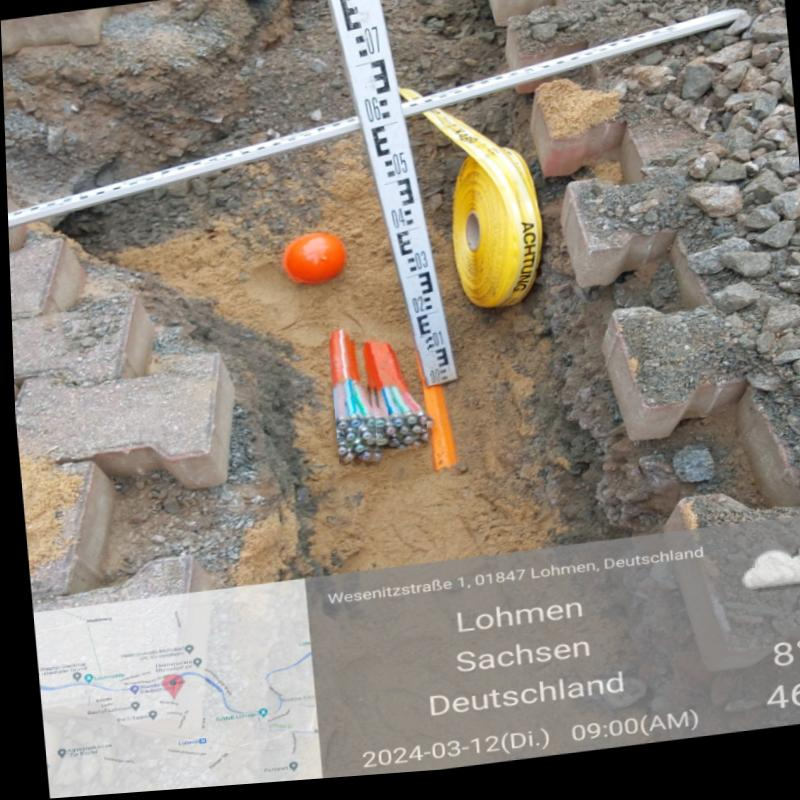Kugelmarker: (281, 239, 342, 288)
Orang-Speednetrohrchen: (366, 347, 433, 456), (326, 337, 375, 469), (421, 392, 456, 476)
